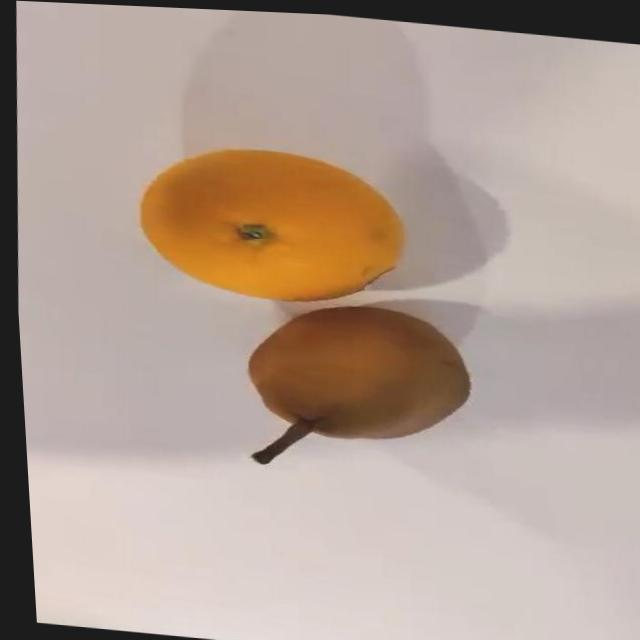Orange: (130, 137, 411, 311)
